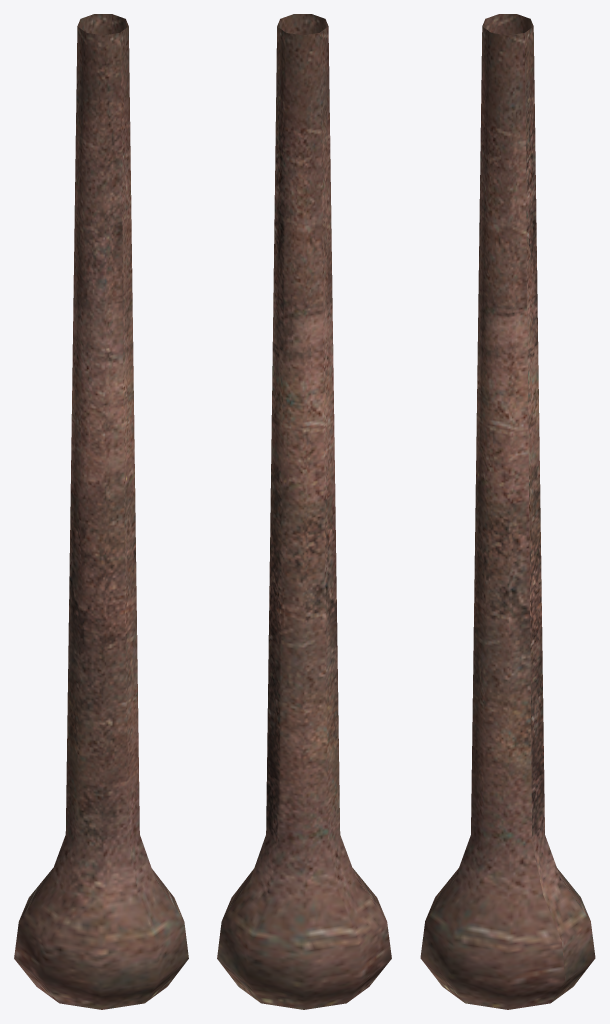
Rendered from Church_Tower_Bell_Klepel.fbx.
3 renders of one model, left to right at view 1: azimuth 30°, elevation 25°; view 2: azimuth 150°, elevation 25°; view 3: azimuth 270°, elevation 25°, orthographic.
Visible parts, largest first — view 1: Church_Tower_Bell_Klepel; view 2: Church_Tower_Bell_Klepel; view 3: Church_Tower_Bell_Klepel.
Part boxes in pixels (x1,y1,x2,y2): Church_Tower_Bell_Klepel: (14, 14, 188, 1009); Church_Tower_Bell_Klepel: (217, 14, 391, 1009); Church_Tower_Bell_Klepel: (420, 14, 595, 1009).
Bounding box in the file's own units: 0.5316 × 3.31 × 0.5398.
